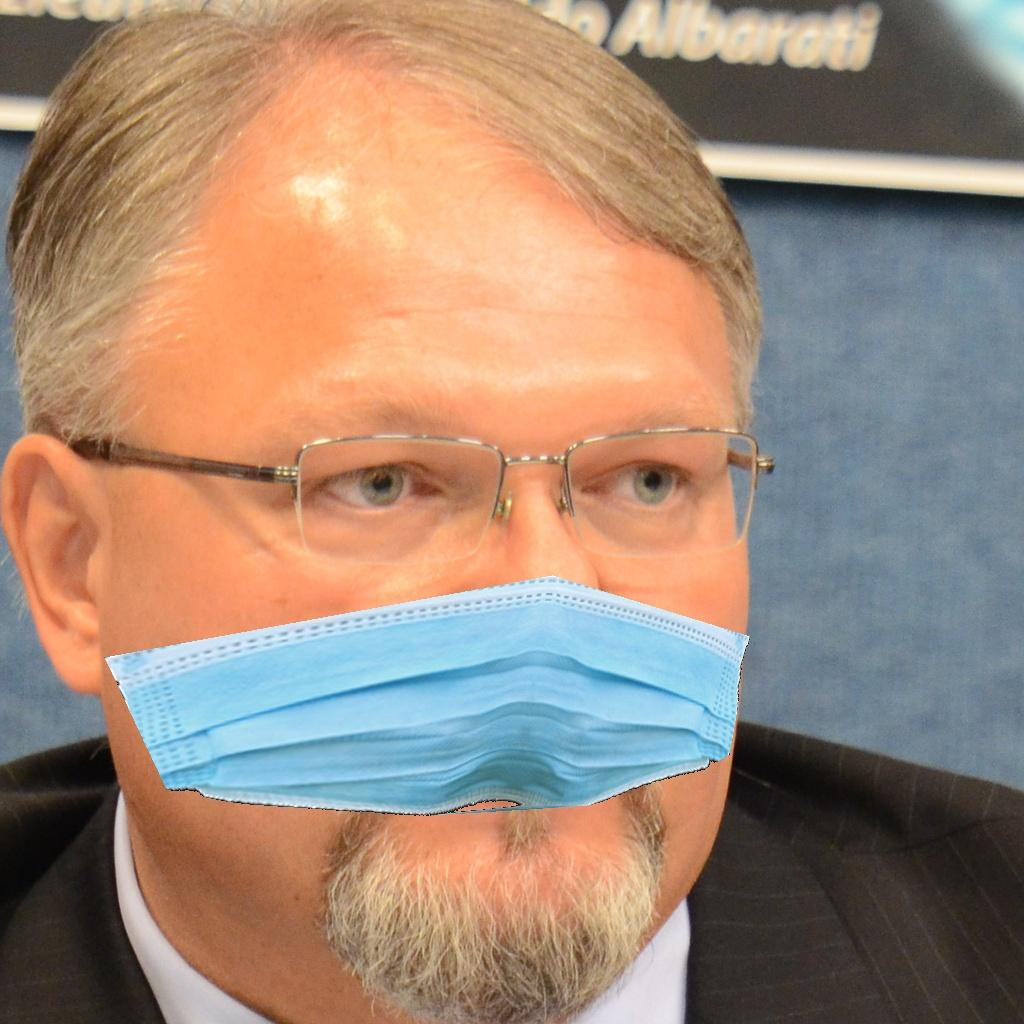Máscara Incorreta: (93, 218, 724, 937)
